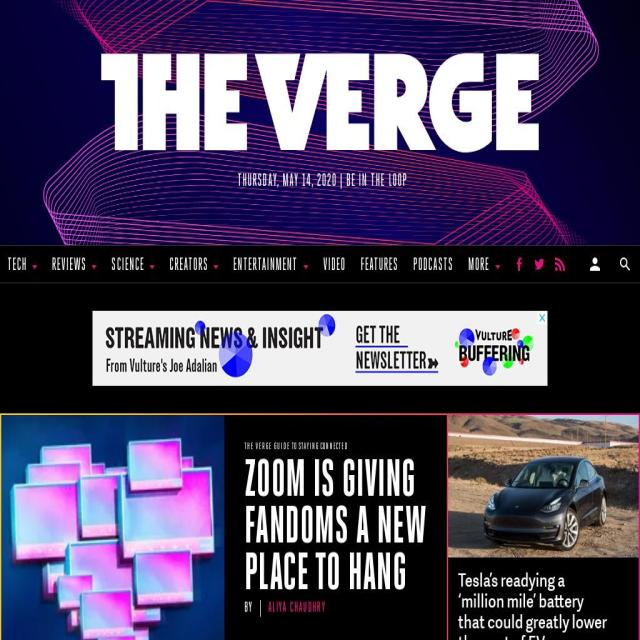button: (2, 414, 225, 640), (448, 414, 640, 558), (226, 245, 316, 283), (162, 245, 226, 283), (44, 245, 104, 283), (104, 245, 162, 283), (352, 245, 407, 283), (406, 245, 461, 283), (460, 245, 508, 283), (0, 245, 45, 283), (315, 245, 353, 283)
heading: (244, 447, 426, 601), (458, 567, 607, 640)
iframe: (92, 310, 548, 386)
image: (2, 414, 225, 640), (101, 54, 539, 152), (448, 414, 640, 558), (514, 257, 524, 271), (534, 257, 544, 271), (555, 257, 565, 271), (590, 258, 600, 272), (32, 263, 38, 270), (92, 263, 97, 270), (303, 263, 308, 270), (495, 263, 500, 270), (150, 263, 154, 270), (214, 263, 218, 270)
link: (346, 169, 408, 190)
text: (238, 169, 338, 190), (233, 253, 302, 274), (244, 440, 348, 452), (268, 597, 326, 616), (169, 253, 211, 274), (52, 253, 90, 274), (111, 253, 148, 274), (468, 253, 494, 274), (8, 253, 30, 274), (244, 597, 255, 616)
